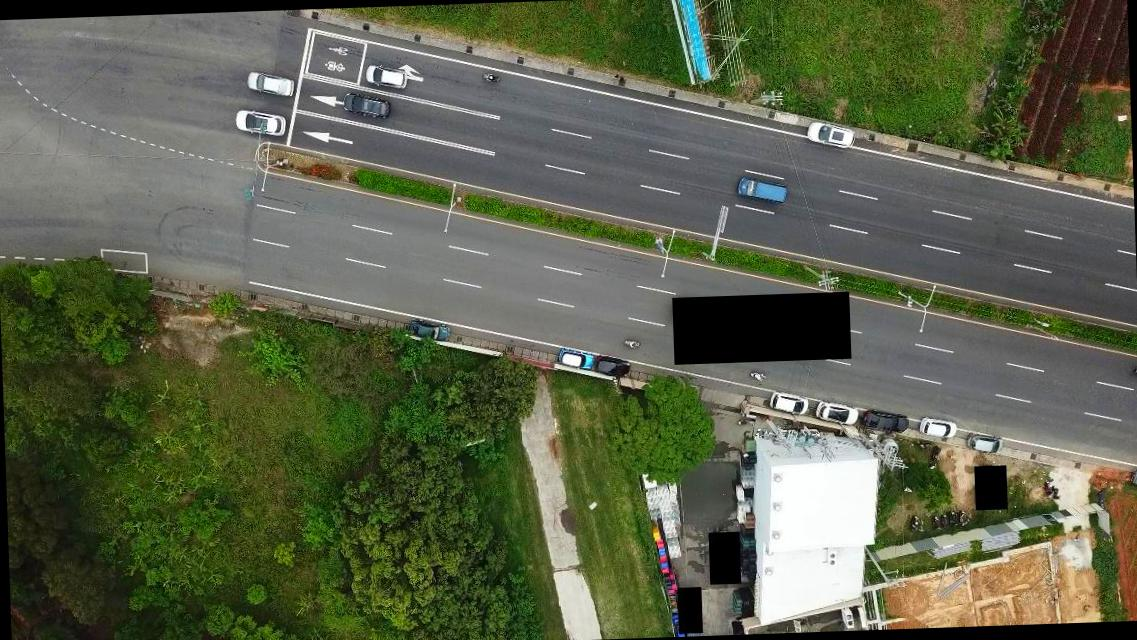vehicle: (341, 90, 392, 123), (736, 175, 790, 203), (234, 110, 288, 138), (805, 122, 855, 151), (361, 64, 409, 94), (244, 72, 294, 100), (862, 409, 910, 437), (815, 399, 857, 427), (408, 317, 452, 343), (557, 346, 593, 376), (767, 391, 810, 416), (593, 354, 631, 380), (918, 416, 958, 439), (965, 435, 1003, 454)
